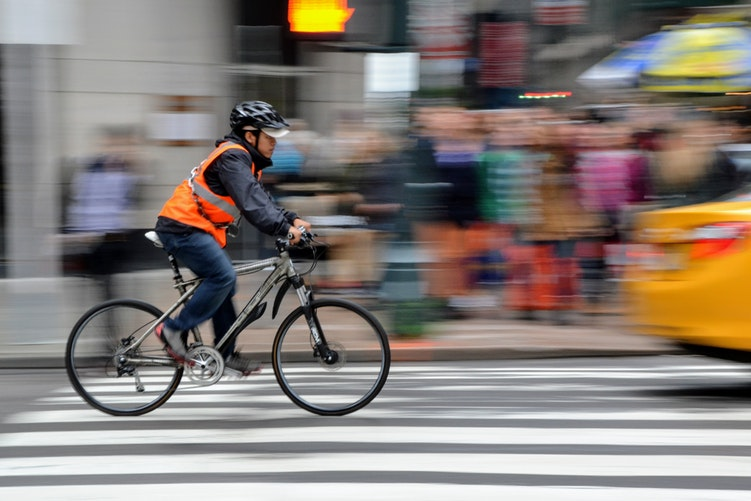helmet: (230, 94, 292, 142)
